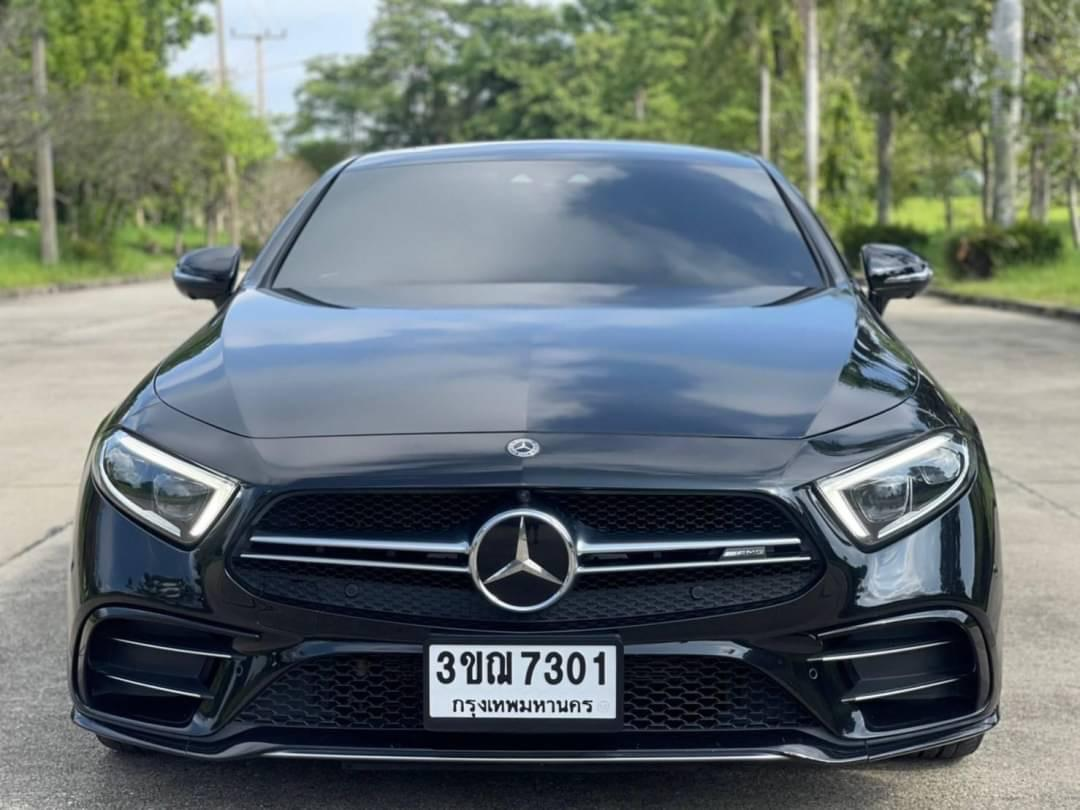license-plate: (418, 634, 627, 730)
